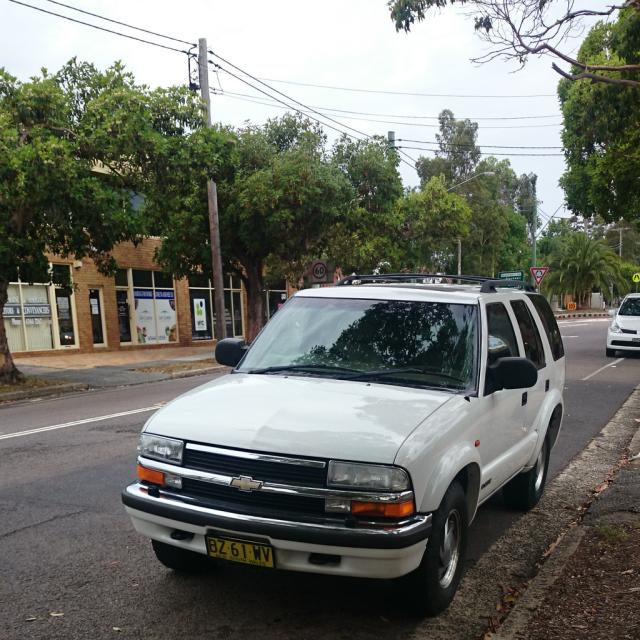car: (121, 276, 571, 615)
